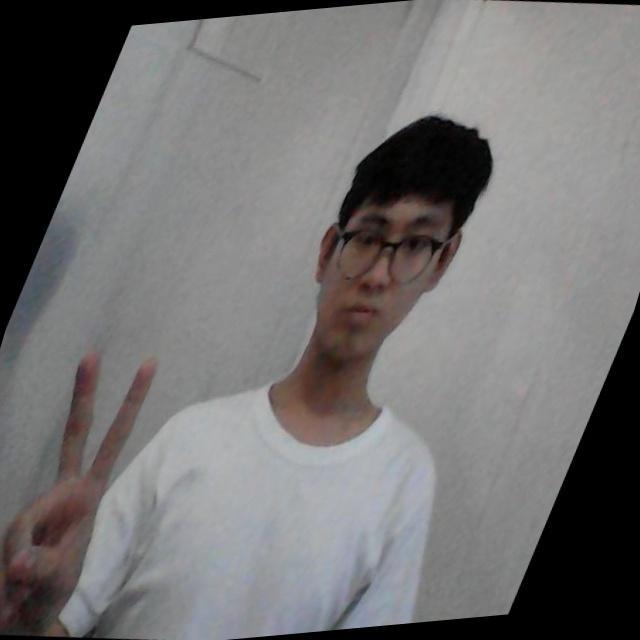V: (12, 344, 164, 608)
